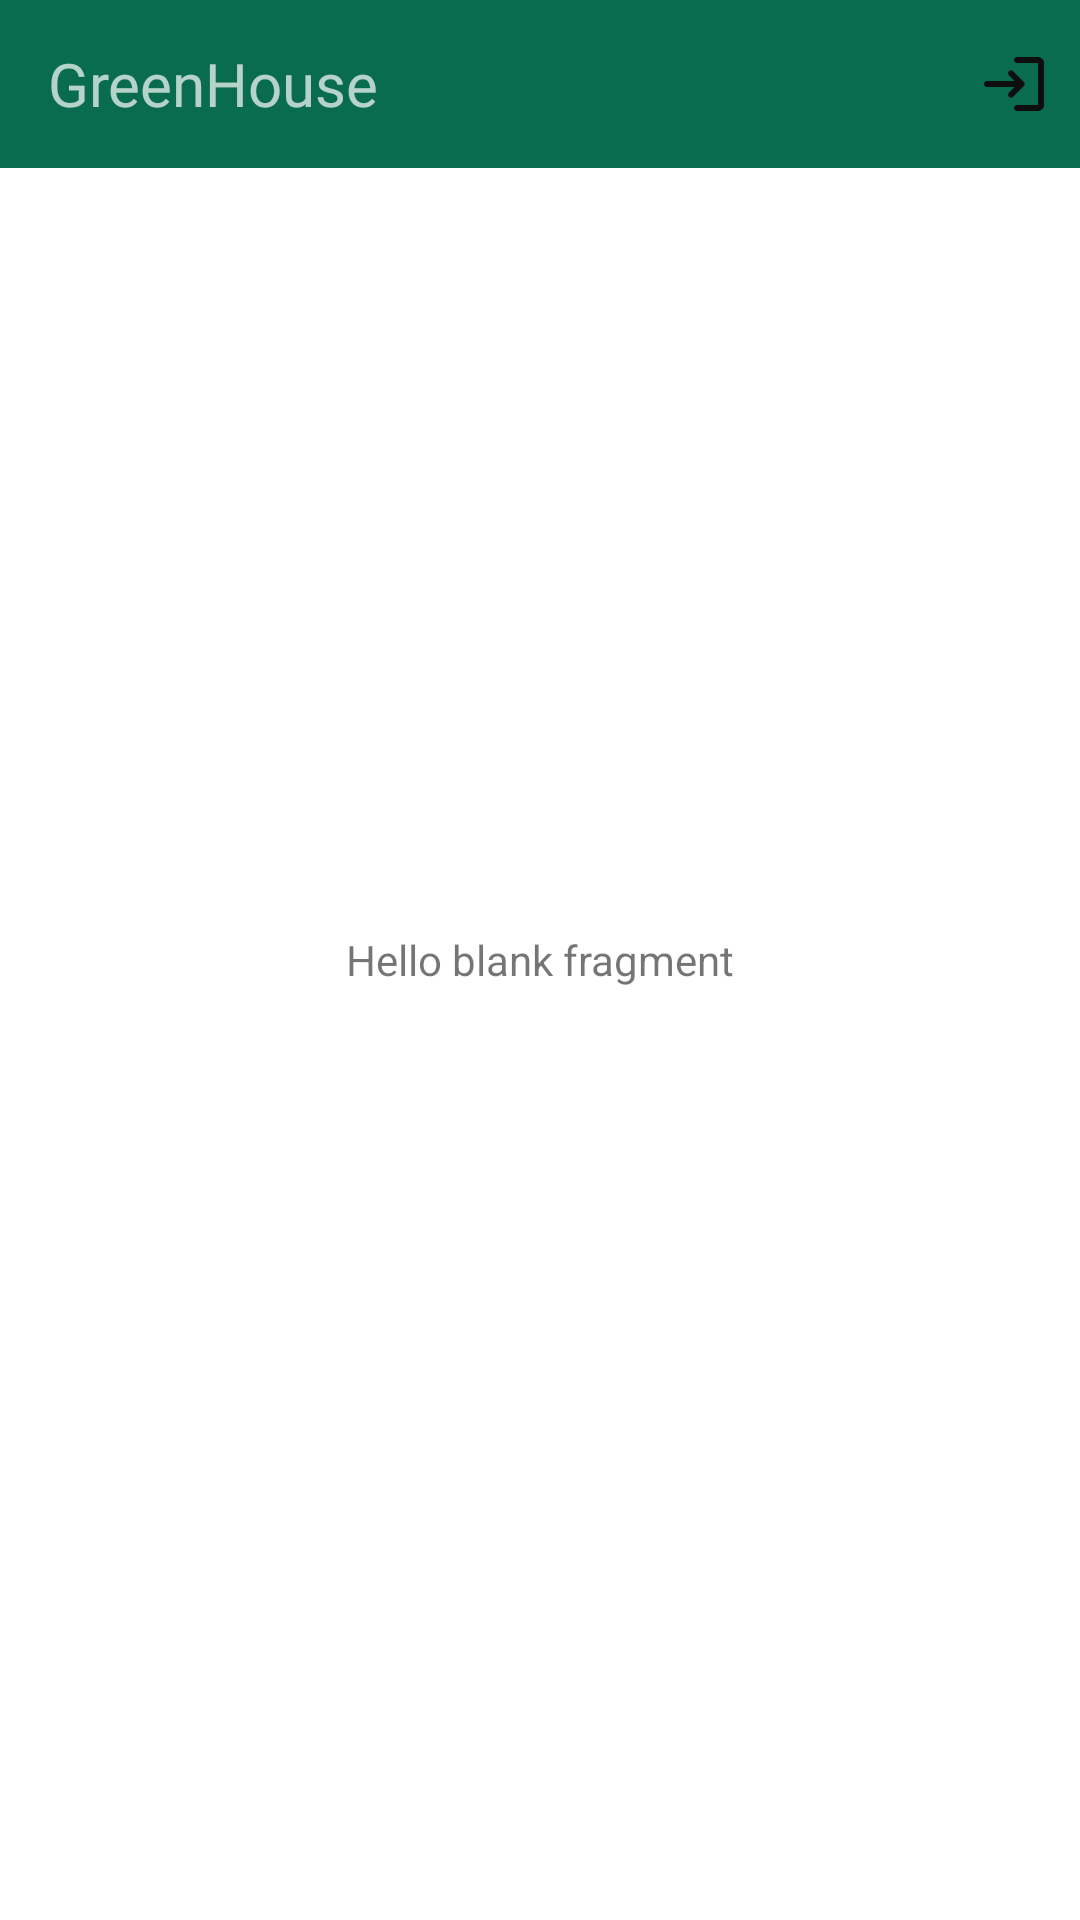

Icon bounding boxes for this 1080px×1920px phone screenshot, format (x1, y1, x2, y2):
login: (984, 57, 1044, 111)
